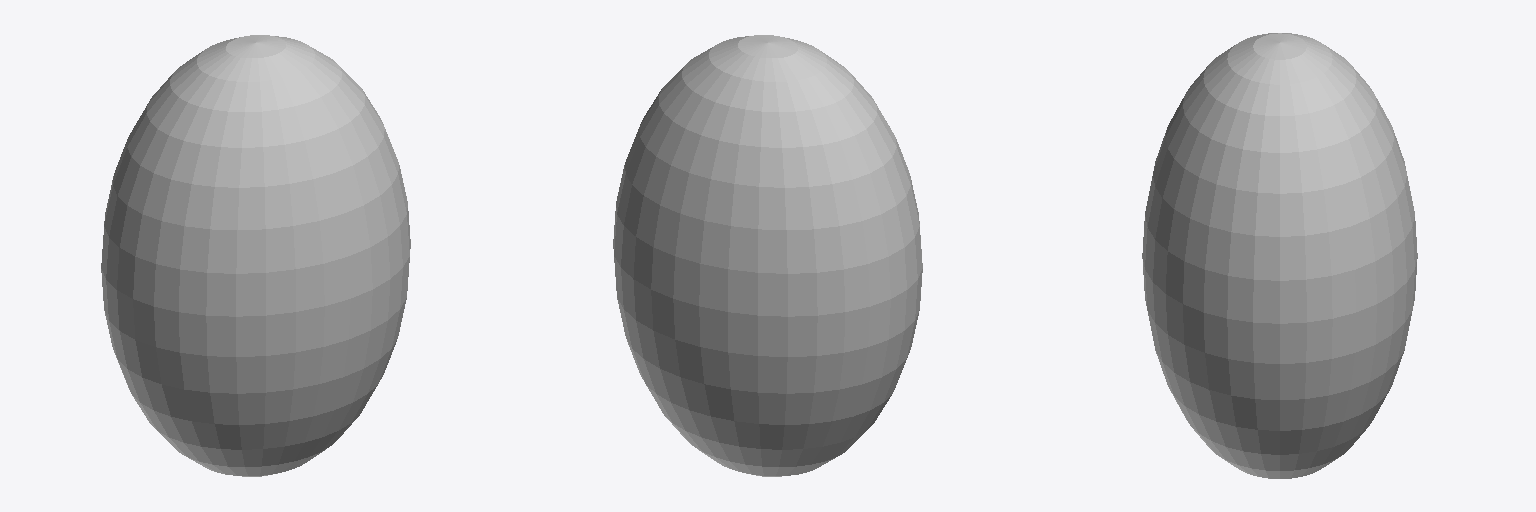
The model's file is pawncircle.obj.
3 views of the same model, side by side, from view 1: azimuth 30°, elevation 25°; view 2: azimuth 150°, elevation 25°; view 3: azimuth 270°, elevation 25° (orthographic).
Parts seen in each view (by area): view 1: Sphere; view 2: Sphere; view 3: Sphere.
Part boxes in pixels (bbox=[...]): Sphere: bbox=[101, 35, 410, 476]; Sphere: bbox=[613, 35, 922, 476]; Sphere: bbox=[1142, 33, 1417, 478].
Bounding box in the file's own units: 2.04 × 2.99 × 1.75.